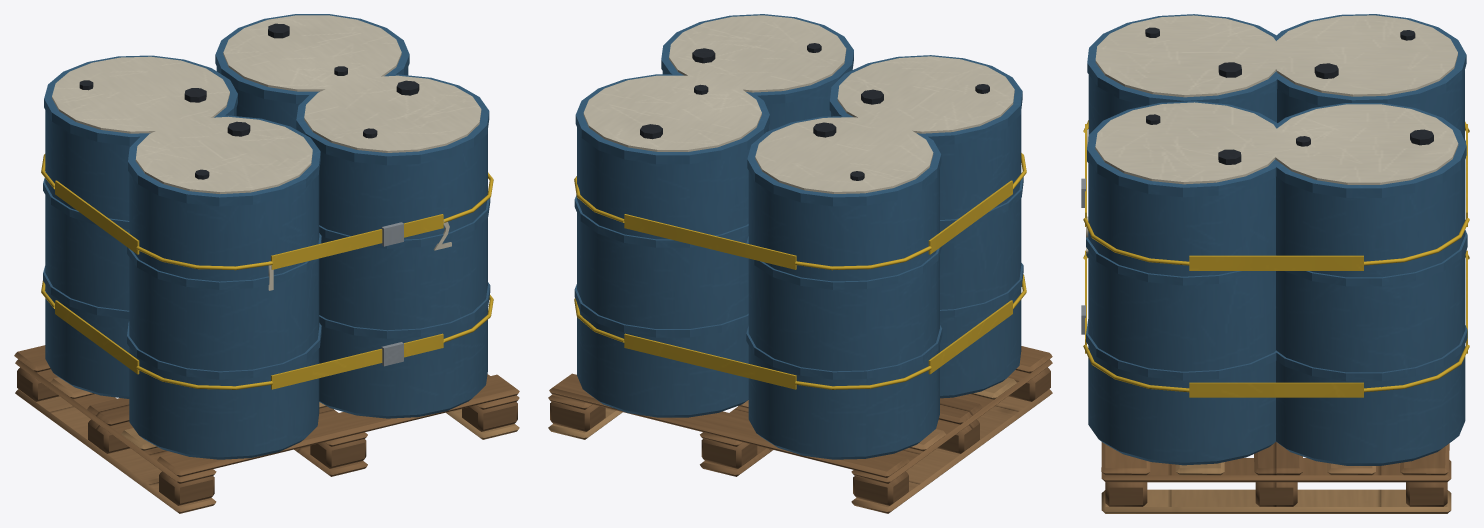
Rendered from barrel_pallet.glb.
The picture shows the model from 3 angles, left to right: view 1: azimuth 30°, elevation 25°; view 2: azimuth 150°, elevation 25°; view 3: azimuth 270°, elevation 25°; orthographic projection. The views are drawn at different scales.
Parts seen in each view (by area): view 1: barrel_pallet; view 2: barrel_pallet; view 3: barrel_pallet.
Boxes of the visible parts, x1=… form: barrel_pallet: x1=14, y1=14, x2=519, y2=513; barrel_pallet: x1=548, y1=14, x2=1052, y2=513; barrel_pallet: x1=1081, y1=14, x2=1469, y2=513.
Bounding box in the file's own units: 1.21 × 1.05 × 1.11.
12 materials, 12 textured.
